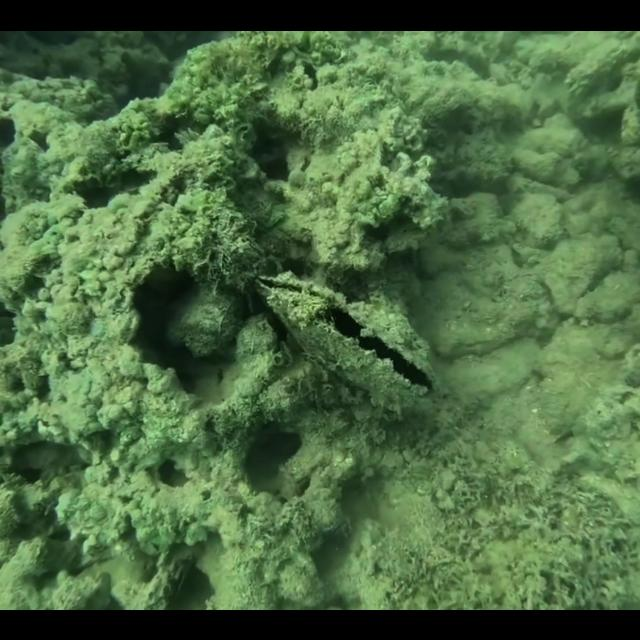Oyster-Open: (255, 268, 441, 410)
